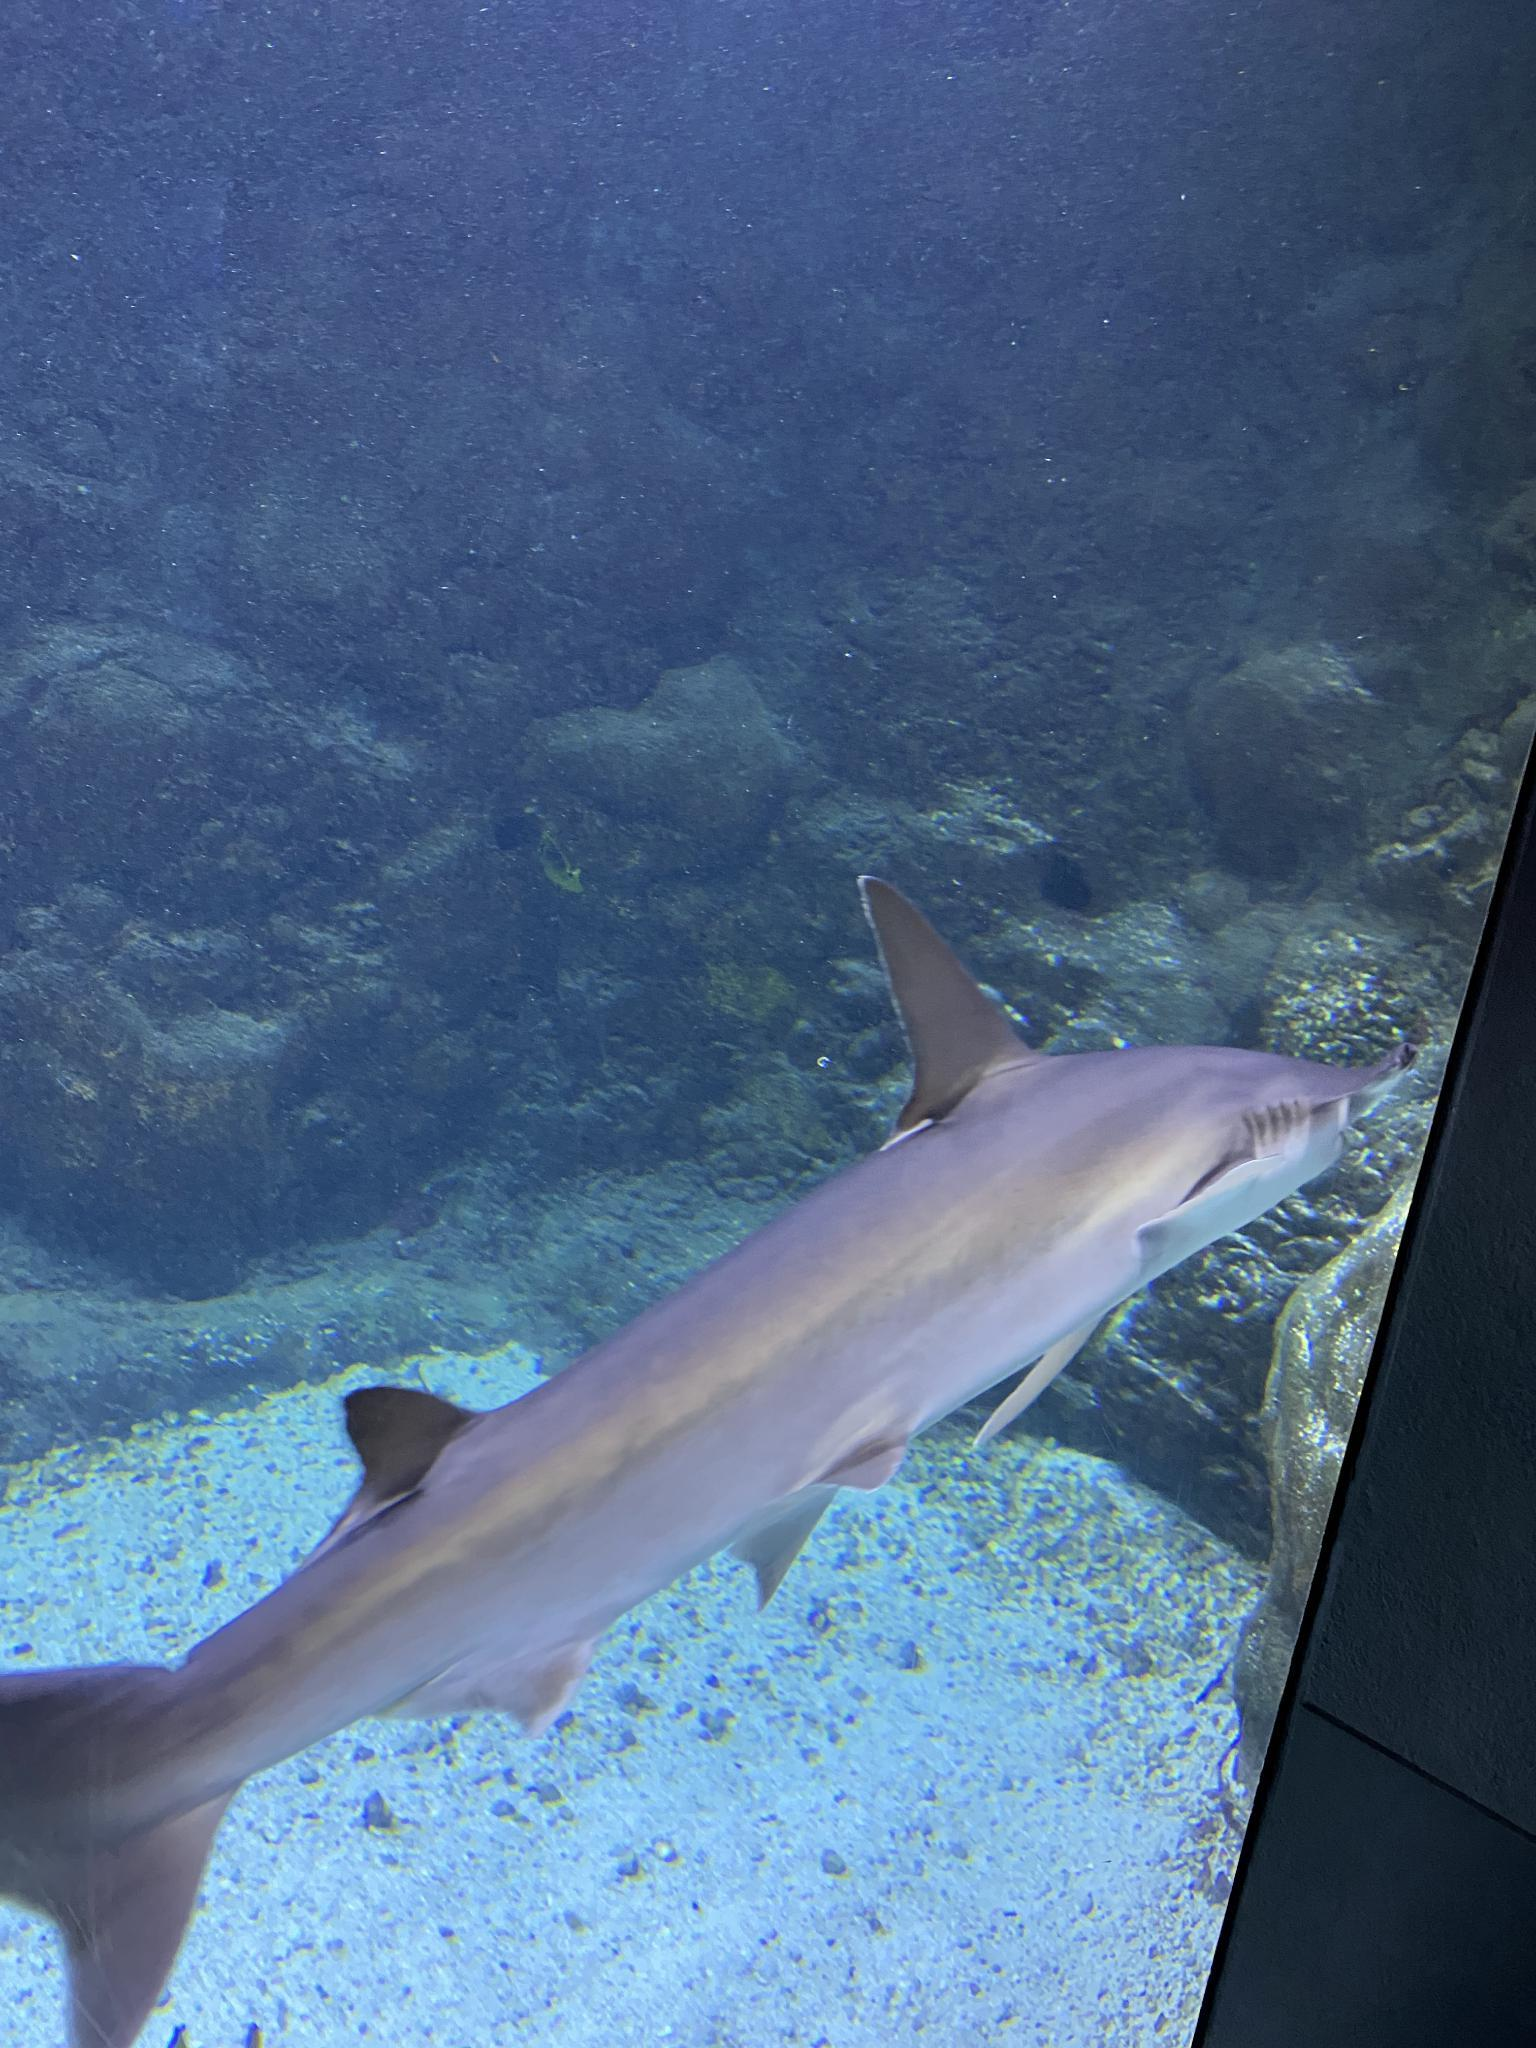shark: (0, 874, 1413, 2046)
